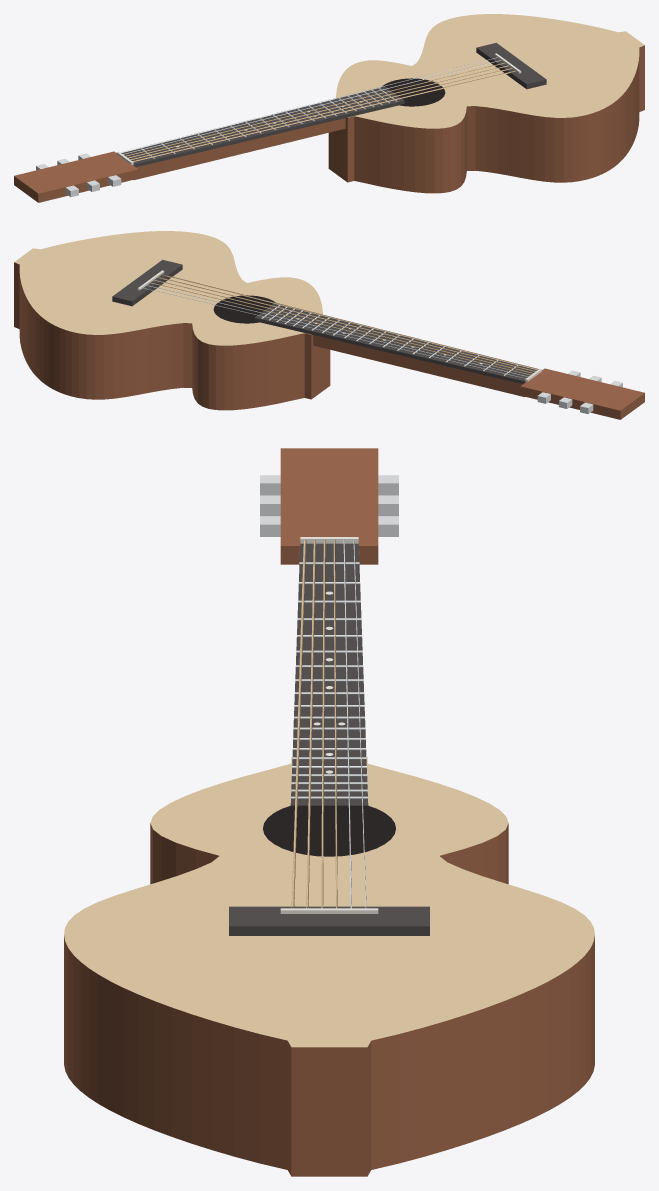
File: AcousticGuitar_Reference.glb
3 views of the same model, one above another, from view 1: azimuth 30°, elevation 25°; view 2: azimuth 150°, elevation 25°; view 3: azimuth 270°, elevation 25° (orthographic). The views are drawn at different scales.
Visible parts, largest first — view 1: GuitarBody_Top, GuitarBody_BackSides, GuitarNeck, Fretboard, BridgeBase, Soundhole, String_6, String_5, FretWires, String_4, TuningPegs, String_3 (+2 smaller); view 2: GuitarBody_Top, GuitarBody_BackSides, GuitarNeck, Fretboard, BridgeBase, Soundhole, String_6, String_5, FretWires, String_4, TuningPegs, String_3 (+2 smaller); view 3: GuitarBody_Top, GuitarBody_BackSides, Fretboard, GuitarNeck, BridgeBase, Soundhole, FretWires, TuningPegs, String_6, String_5.
Part boxes in pixels (bbox=[...]): GuitarBody_Top: bbox=[336, 14, 644, 128]; GuitarBody_BackSides: bbox=[328, 45, 644, 193]; GuitarNeck: bbox=[14, 118, 345, 202]; Fretboard: bbox=[121, 86, 404, 167]; BridgeBase: bbox=[476, 42, 546, 89]; Soundhole: bbox=[381, 78, 445, 106]; String_6: bbox=[132, 70, 515, 161]; String_5: bbox=[130, 68, 512, 159]; FretWires: bbox=[140, 88, 397, 158]; String_4: bbox=[128, 65, 508, 158]; TuningPegs: bbox=[36, 153, 121, 197]; String_3: bbox=[125, 62, 504, 156]; GuitarBody_Top: bbox=[14, 231, 322, 345]; GuitarBody_BackSides: bbox=[14, 262, 330, 410]; GuitarNeck: bbox=[313, 335, 644, 419]; Fretboard: bbox=[254, 303, 537, 384]; BridgeBase: bbox=[112, 259, 182, 306]; Soundhole: bbox=[213, 295, 275, 323]; String_6: bbox=[161, 274, 538, 369]; String_5: bbox=[157, 277, 535, 371]; FretWires: bbox=[261, 305, 518, 375]; String_4: bbox=[154, 279, 533, 373]; TuningPegs: bbox=[537, 370, 622, 414]; String_3: bbox=[150, 282, 530, 375]; GuitarBody_Top: bbox=[64, 757, 594, 1047]; GuitarBody_BackSides: bbox=[64, 823, 594, 1176]; Fretboard: bbox=[290, 543, 368, 805]; GuitarNeck: bbox=[280, 448, 378, 564]; BridgeBase: bbox=[229, 906, 429, 935]; Soundhole: bbox=[263, 805, 395, 856]; FretWires: bbox=[291, 562, 367, 798]; TuningPegs: bbox=[260, 475, 398, 536]; String_6: bbox=[291, 540, 306, 907]; String_5: bbox=[306, 540, 315, 908].
Bounding box in the file's own units: 1.03 × 0.116 × 0.3903.
